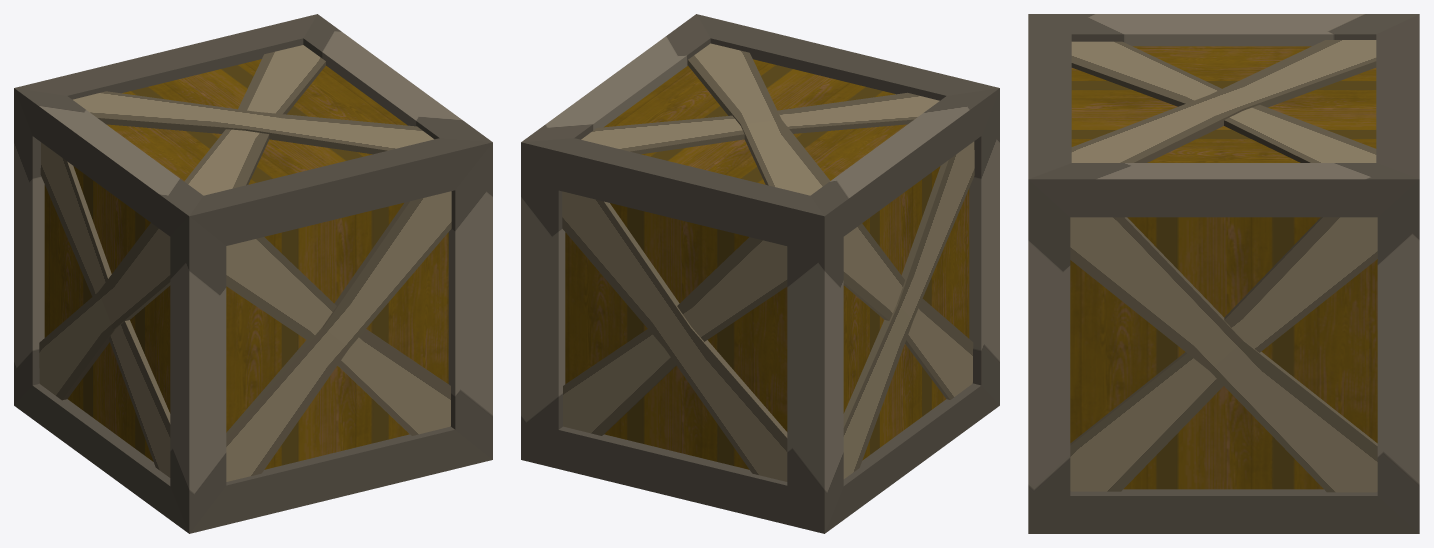
File: crate.glb
3 views of the same model, side by side, from view 1: azimuth 30°, elevation 25°; view 2: azimuth 150°, elevation 25°; view 3: azimuth 270°, elevation 25° (orthographic). The views are drawn at different scales.
Visible parts, largest first — view 1: _MeshInstance3D_40; view 2: _MeshInstance3D_40; view 3: _MeshInstance3D_40.
Boxes of the visible parts, x1,y1,x2,y2 form: _MeshInstance3D_40: (14, 14, 492, 533); _MeshInstance3D_40: (521, 14, 999, 533); _MeshInstance3D_40: (1028, 14, 1419, 533).
Bounding box in the file's own units: 1 × 0.9983 × 0.9983.
Materials: 8 (8 with a texture image).
